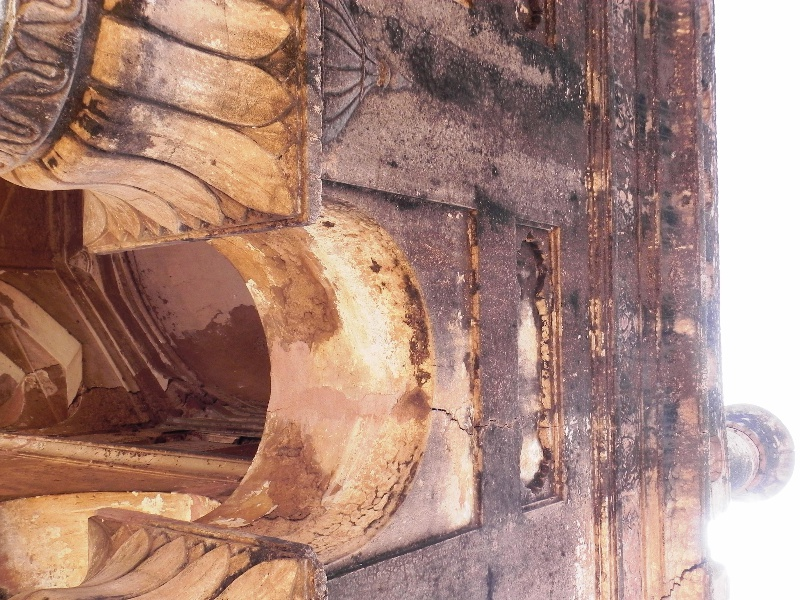Crack: (656, 558, 702, 600), (431, 400, 468, 435)
